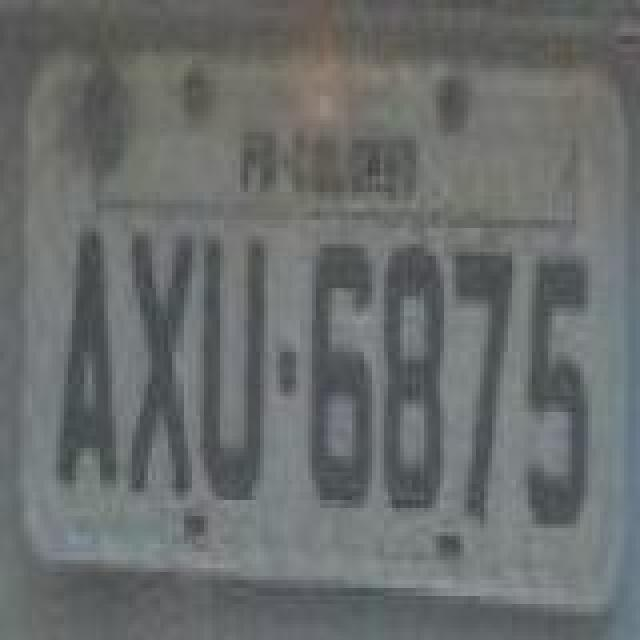5: (526, 246, 594, 538)
6: (310, 240, 378, 512)
7: (450, 248, 510, 520)
8: (380, 248, 444, 520)
A: (54, 228, 122, 492)
U: (198, 236, 266, 508)
X: (126, 232, 194, 496)
